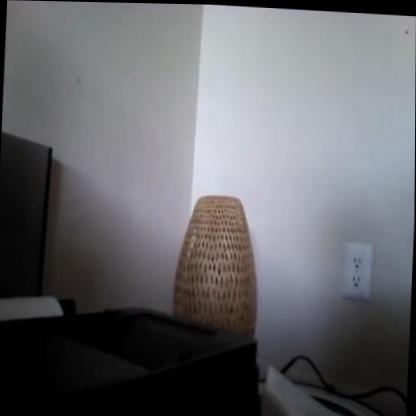OUTLET: (342, 243, 372, 298)
